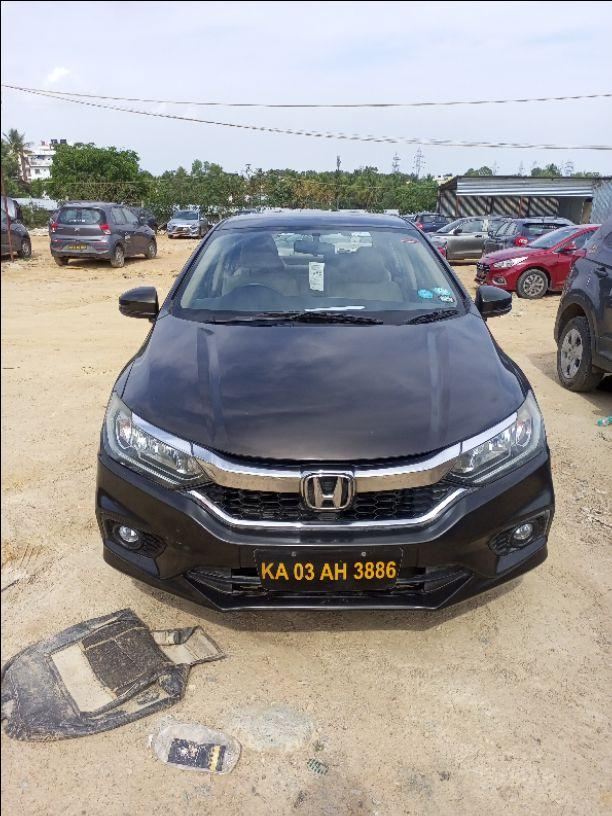license_plate: (253, 544, 403, 593)
